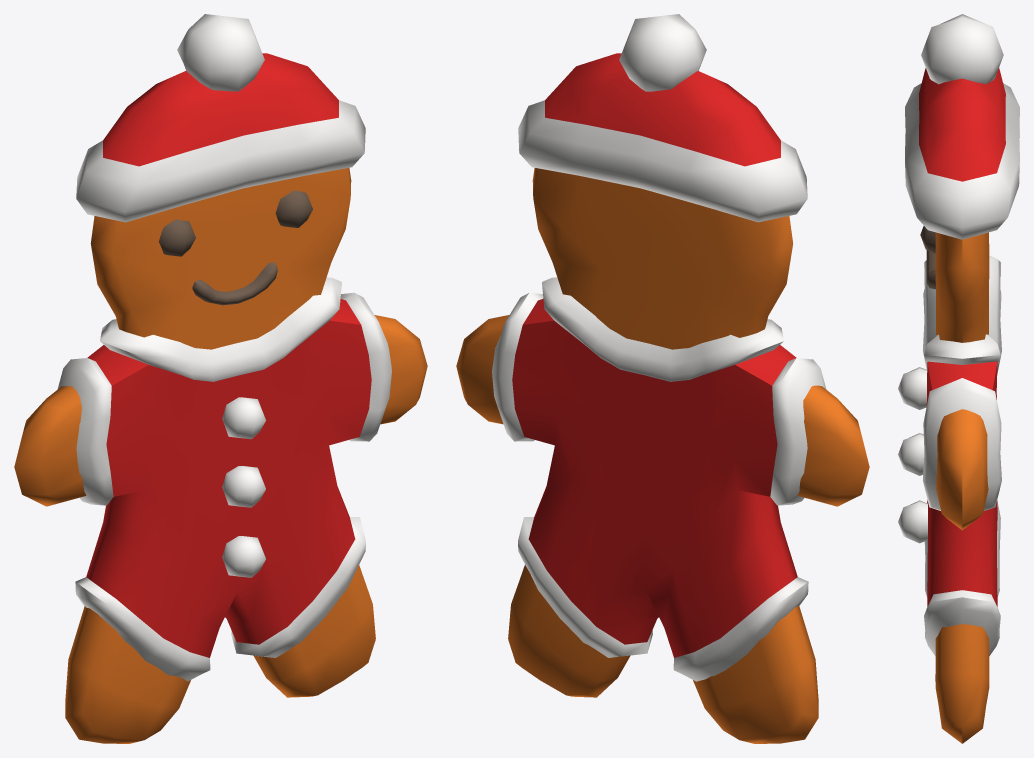
Rendered from Gingerbread_boy.glb.
3 views of the same model, side by side, from view 1: azimuth 30°, elevation 25°; view 2: azimuth 150°, elevation 25°; view 3: azimuth 270°, elevation 25° (orthographic). The views are drawn at different scales.
Parts seen in each view (by area): view 1: Gingerbread_boy; view 2: Gingerbread_boy; view 3: Gingerbread_boy.
Part boxes in pixels (x1,y1,x2,y2): Gingerbread_boy: [14, 14, 427, 743]; Gingerbread_boy: [456, 14, 869, 743]; Gingerbread_boy: [898, 14, 1019, 743].
Size of the model in its own units: 0.8384 by 1.37 by 0.2227.
Materials: 1 (1 with a texture image).
